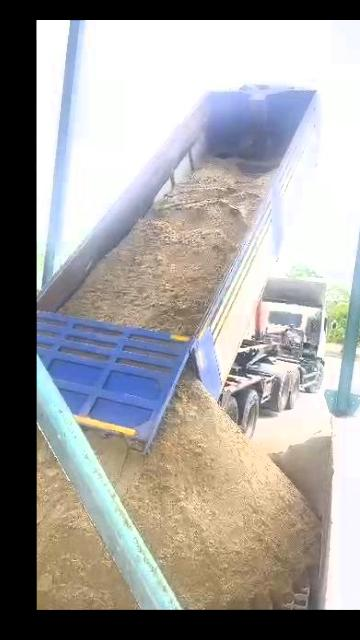sand: (87, 379, 319, 609), (61, 160, 269, 333), (37, 436, 134, 608), (271, 425, 332, 520)
